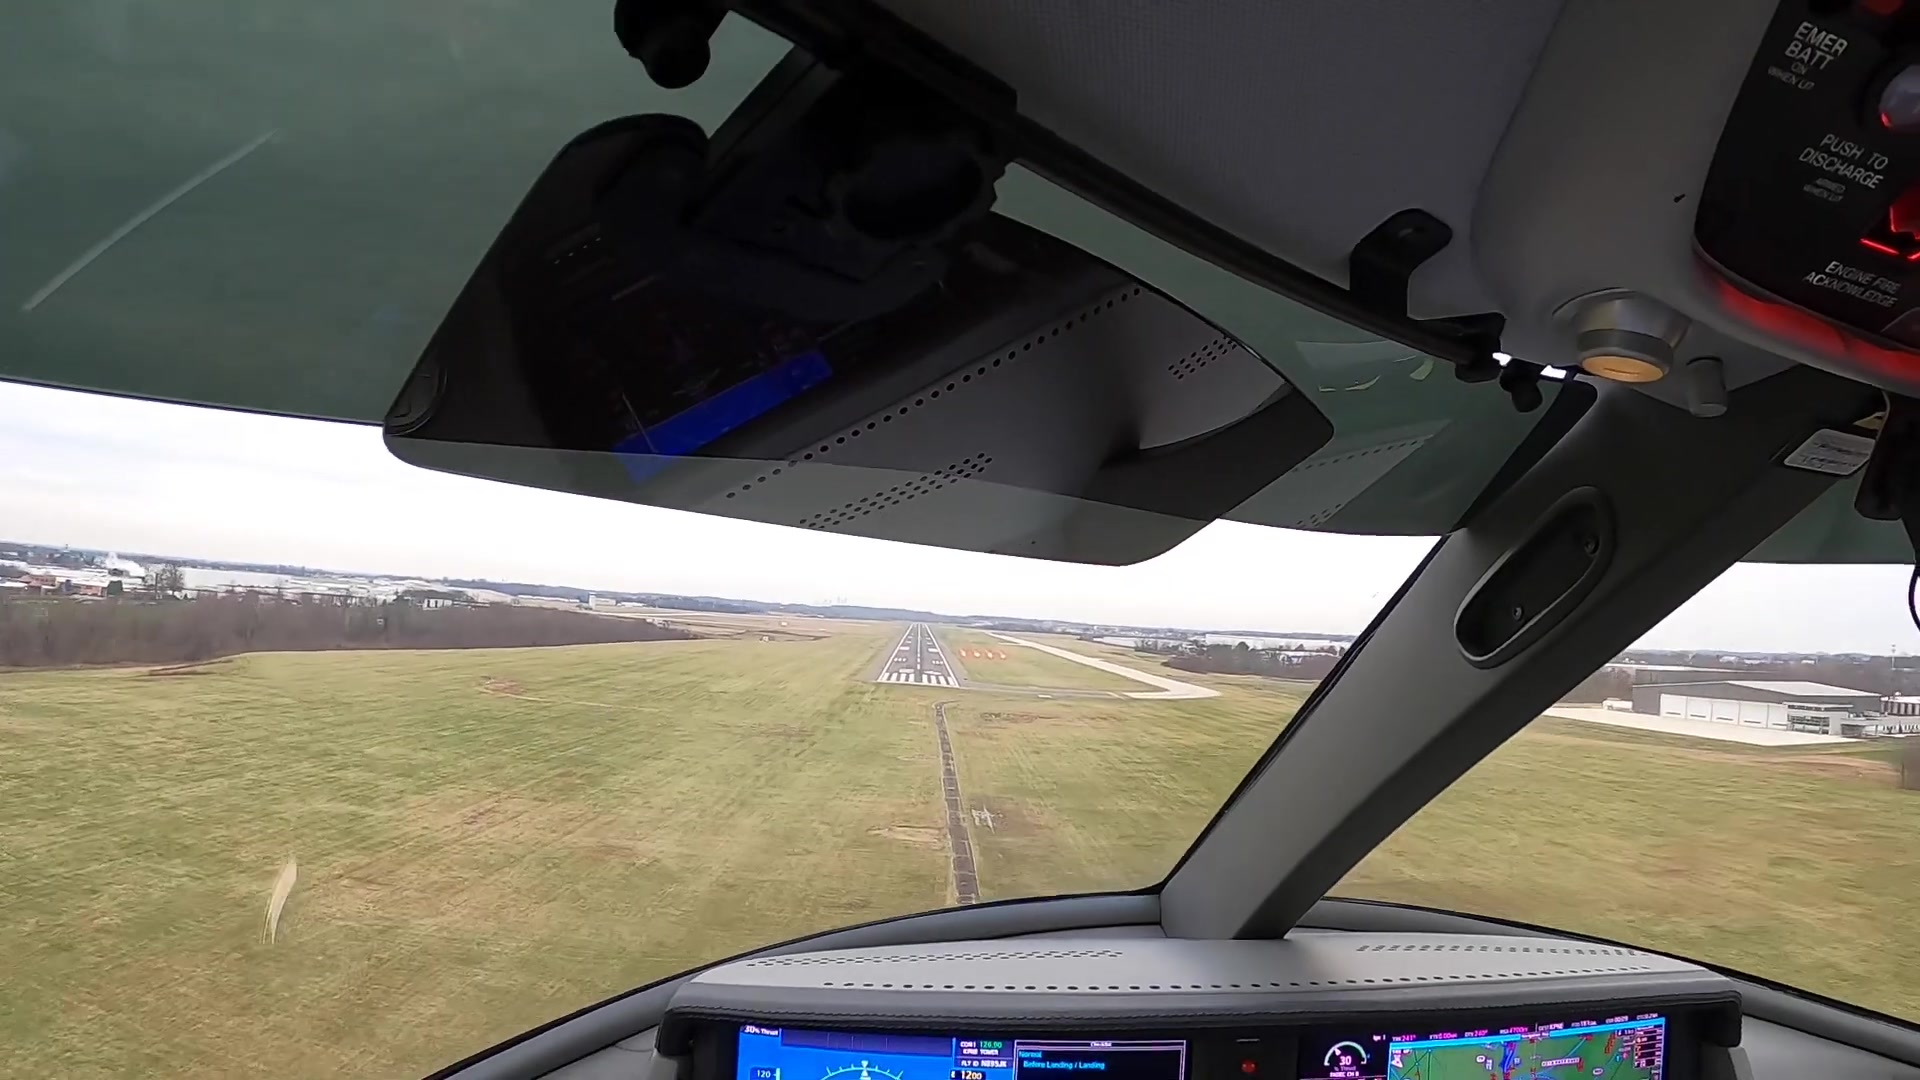entrance: (878, 673, 956, 688)
runway: (876, 622, 963, 692)
